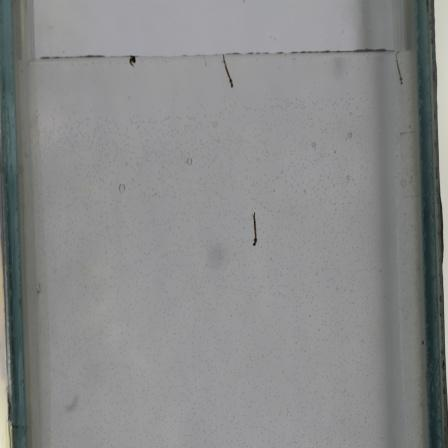Jentik-Nyamuk: (245, 208, 264, 251), (389, 49, 407, 89), (219, 54, 238, 91), (126, 54, 141, 68)
